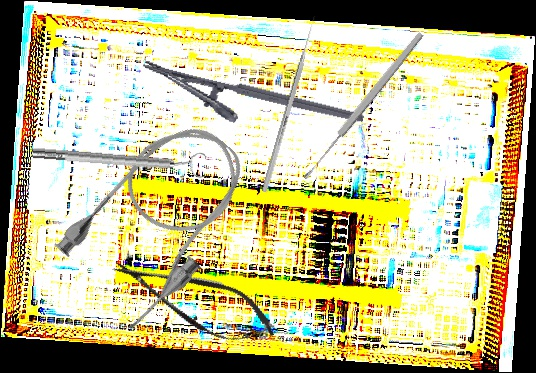Cannula: (45, 102, 273, 338)
Fixation Ring: (31, 137, 207, 181)
Micro Scissor: (103, 241, 285, 359)
Needle Holder: (134, 58, 365, 154)
Pusher: (261, 15, 318, 193)
Surgical Spoon: (300, 30, 426, 182)
